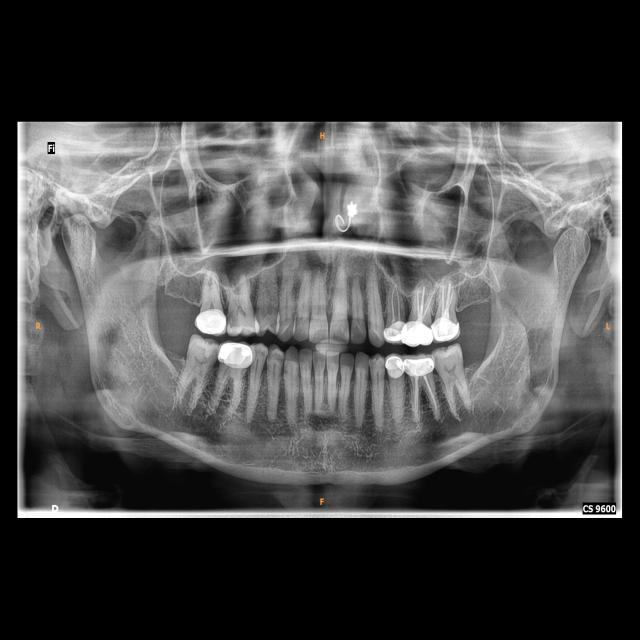dentin-curugu: (228, 307, 240, 329)
kanal-tedavisi: (412, 380, 440, 419), (415, 282, 434, 320), (438, 280, 457, 318), (387, 280, 404, 320)
kaplama: (217, 342, 253, 369), (194, 310, 227, 335), (432, 316, 460, 342), (406, 320, 433, 346), (402, 358, 435, 377), (384, 352, 405, 381), (383, 318, 407, 341)
